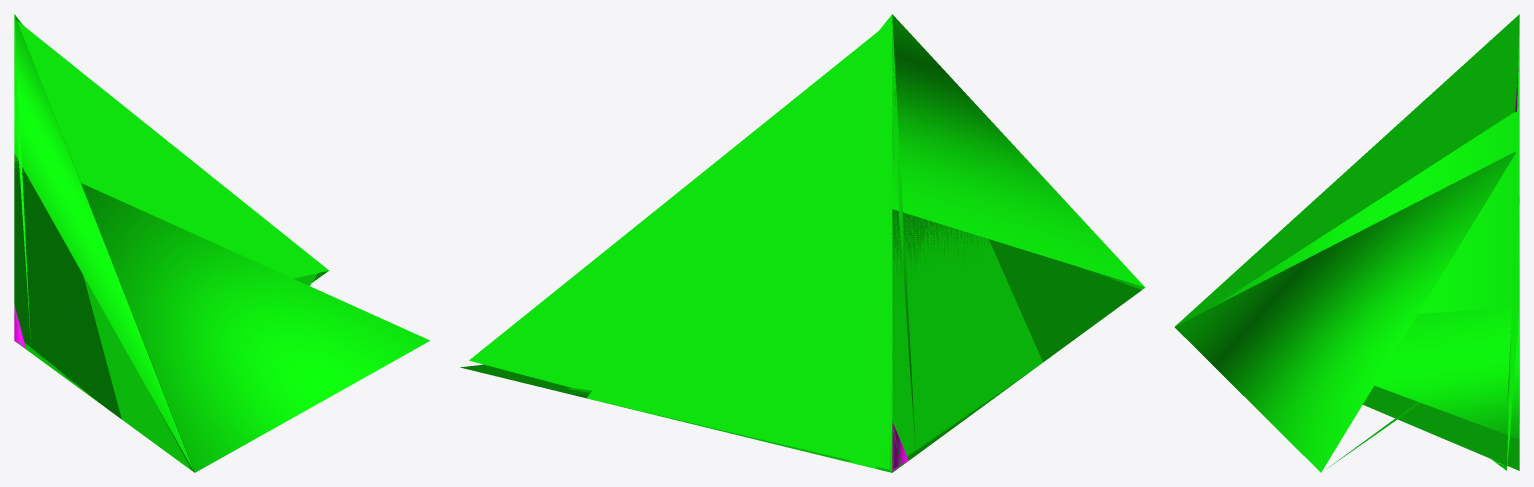
The model's file is digger.fbx.
3 renders of one model, left to right at view 1: azimuth 30°, elevation 25°; view 2: azimuth 150°, elevation 25°; view 3: azimuth 270°, elevation 25°, orthographic. The views are drawn at different scales.
Parts seen in each view (by area): view 1: legLeft, body; view 2: legLeft, body, armRight; view 3: legLeft, body.
Part boxes in pixels (box(x1,y1,x2,y2)): legLeft: box(14, 14, 430, 472); body: box(14, 20, 328, 470); legLeft: box(555, 14, 1145, 470); body: box(460, 31, 1141, 472); armRight: box(495, 375, 908, 472); legLeft: box(1174, 14, 1519, 472); body: box(1363, 18, 1519, 470).
Size of what is drawn, in the model's own units: 9435013 by 9435013 by 9435010.
